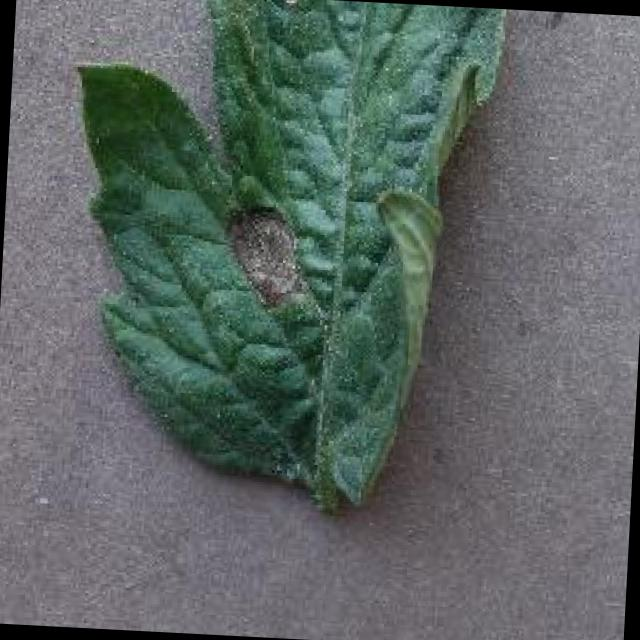Tomato_Early_Blight: (128, 159, 395, 416)
